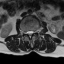CCS_normal: (28, 28, 31, 40)
LFS_normal: (33, 28, 36, 36)
LLS_normal: (31, 28, 33, 36)
RFS_stenosis: (24, 28, 26, 36)
RLS_normal: (26, 28, 28, 37)
